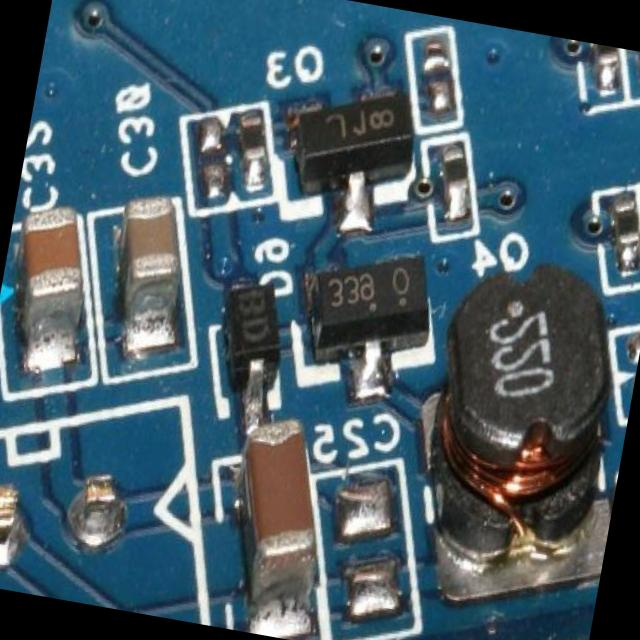capacitor: (213, 403, 342, 609), (2, 174, 104, 356), (104, 182, 196, 342)
diode: (214, 269, 296, 396)
resistor: (434, 133, 474, 215), (232, 108, 271, 180), (612, 195, 640, 258)
transistor: (288, 230, 442, 408), (272, 72, 430, 224)
